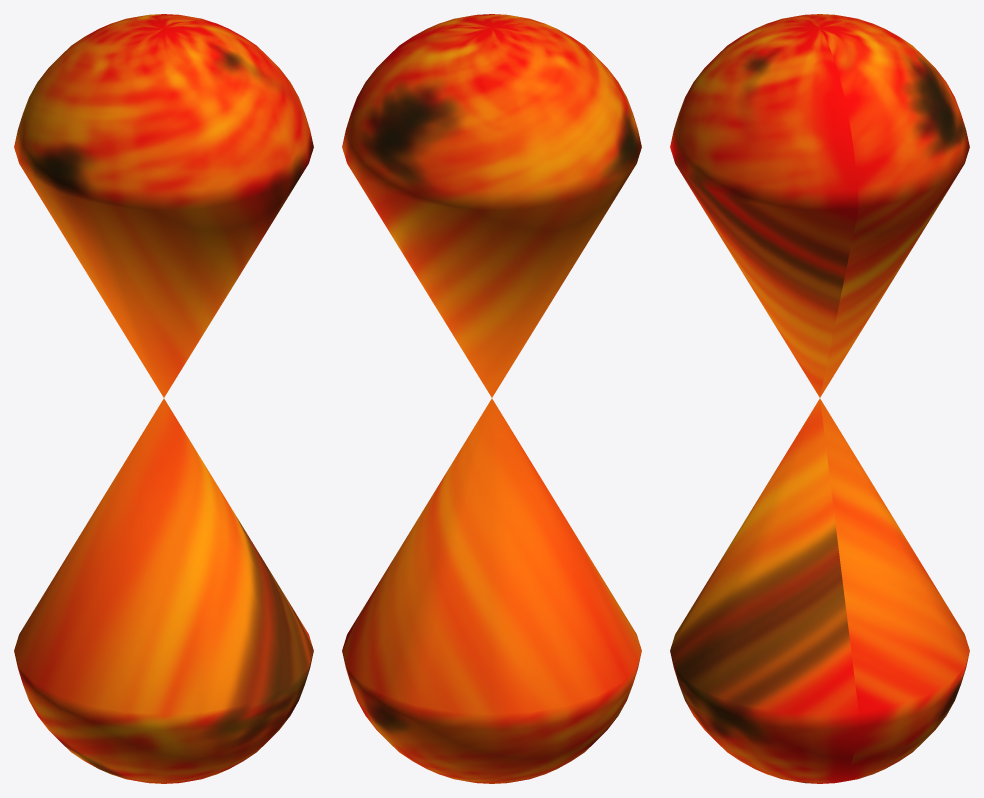
The model's file is LavaThingy.fbx.
3 renders of one model, left to right at view 1: azimuth 30°, elevation 25°; view 2: azimuth 150°, elevation 25°; view 3: azimuth 270°, elevation 25°, orthographic.
Parts seen in each view (by area): view 1: pSphere3; view 2: pSphere3; view 3: pSphere3.
Boxes of the visible parts, x1=… form: pSphere3: x1=14, y1=14, x2=313, y2=783; pSphere3: x1=342, y1=14, x2=641, y2=783; pSphere3: x1=670, y1=14, x2=969, y2=783.
Size of the model in its own units: 1.98 by 5.41 by 1.98.
1 material, 1 textured.
